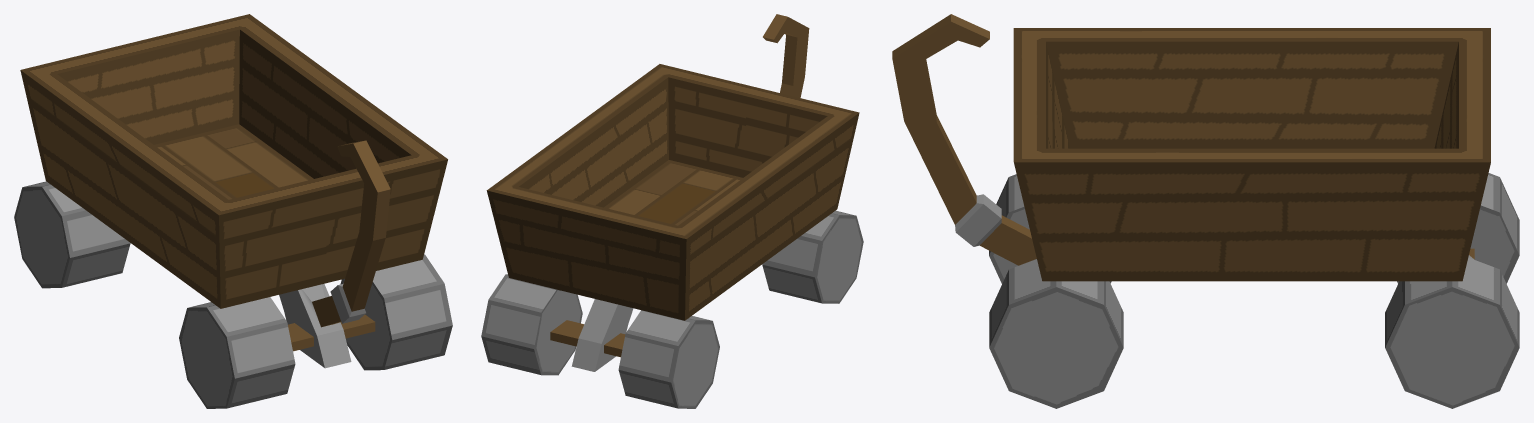
File: cart.FBX
The picture shows the model from 3 angles, left to right: view 1: azimuth 30°, elevation 25°; view 2: azimuth 150°, elevation 25°; view 3: azimuth 270°, elevation 25°; orthographic projection. The views are drawn at different scales.
Visible parts, largest first — view 1: cart; view 2: cart; view 3: cart.
Boxes of the visible parts, x1,y1,x2,y2 form: cart: [14, 14, 452, 408]; cart: [481, 14, 863, 408]; cart: [892, 14, 1519, 408].
Size of the model in its own units: 86.98 by 171 by 98.73.
1 material, 1 textured.
